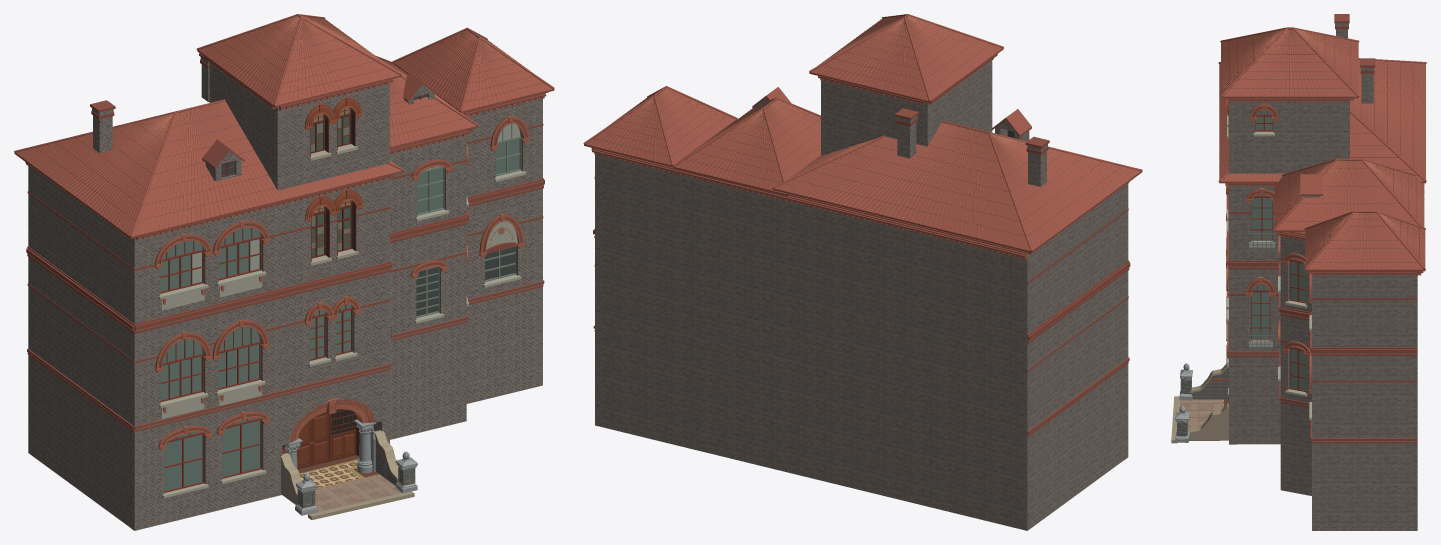
Rendered from jingan-lutheran-residence-changde-310-lod.glb.
The picture shows the model from 3 angles, left to right: view 1: azimuth 30°, elevation 25°; view 2: azimuth 150°, elevation 25°; view 3: azimuth 270°, elevation 25°; orthographic projection. The views are drawn at different scales.
Visible parts, largest first — view 1: 常德路310号信义会住宅的街面与庭院门廊; view 2: 常德路310号信义会住宅的街面与庭院门廊; view 3: 常德路310号信义会住宅的街面与庭院门廊.
Part boxes in pixels (<box>): 常德路310号信义会住宅的街面与庭院门廊: <box>14,14,554,530</box>; 常德路310号信义会住宅的街面与庭院门廊: <box>583,14,1142,530</box>; 常德路310号信义会住宅的街面与庭院门廊: <box>1171,14,1426,530</box>.
Size of the model in its own units: 23.39 by 20.98 by 12.3.
Materials: 52 (4 with a texture image).
